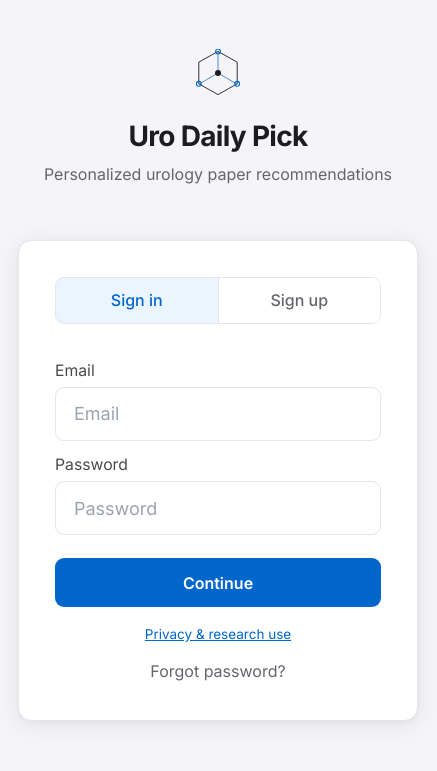
Scenario: shows confirmation instructions when signup does not create a session
The image size is (437, 771).
Click the button "Sign up".
click(299, 300)  # box x1=218 y1=278 x2=380 y2=323
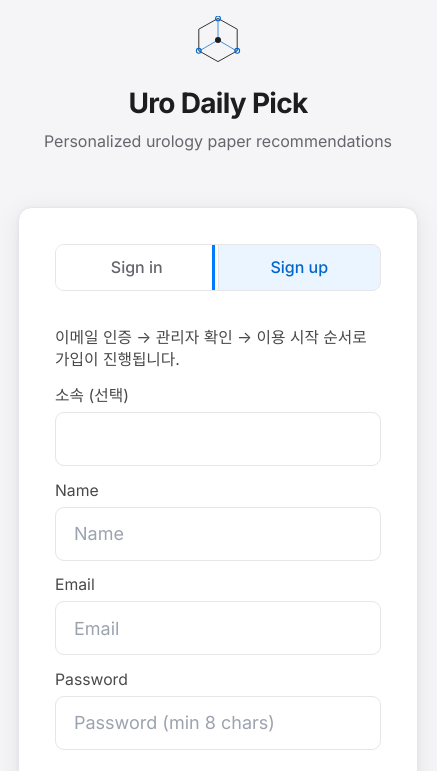
Type "reader@example.test" into the field labelled "Email".
click(218, 628); type("reader@example.test")  # box x1=55 y1=601 x2=381 y2=655
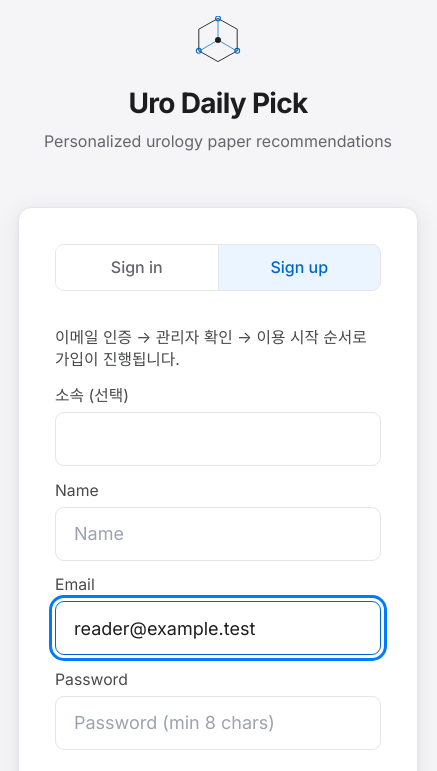
Type "strong-password" into the password field labelled "Password".
click(218, 722); type("strong-password")  # box x1=55 y1=696 x2=381 y2=750
(page scrolled)
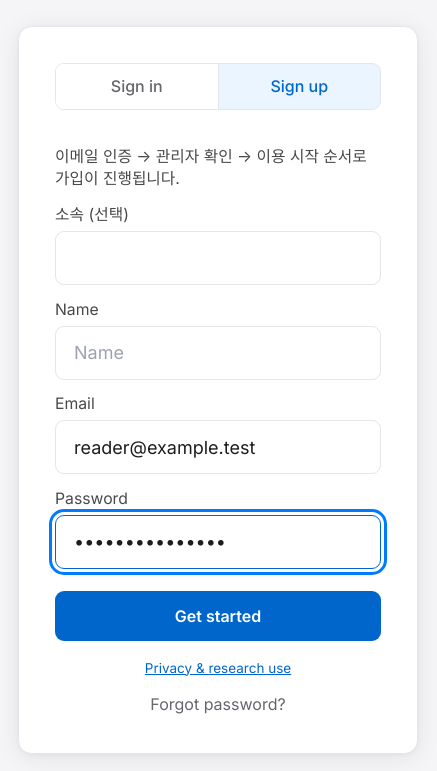
Click the button "Get started".
click(218, 616)  # box x1=55 y1=591 x2=381 y2=640
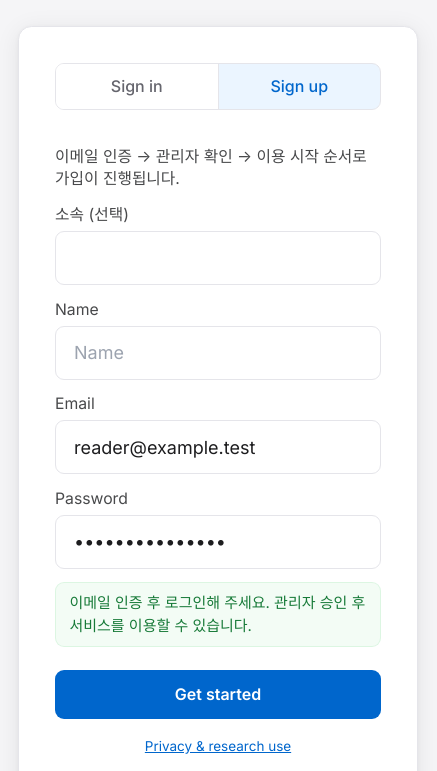
Expected: the message shows "관리자 승인 후", x1=70 y1=593 x2=365 y2=634
